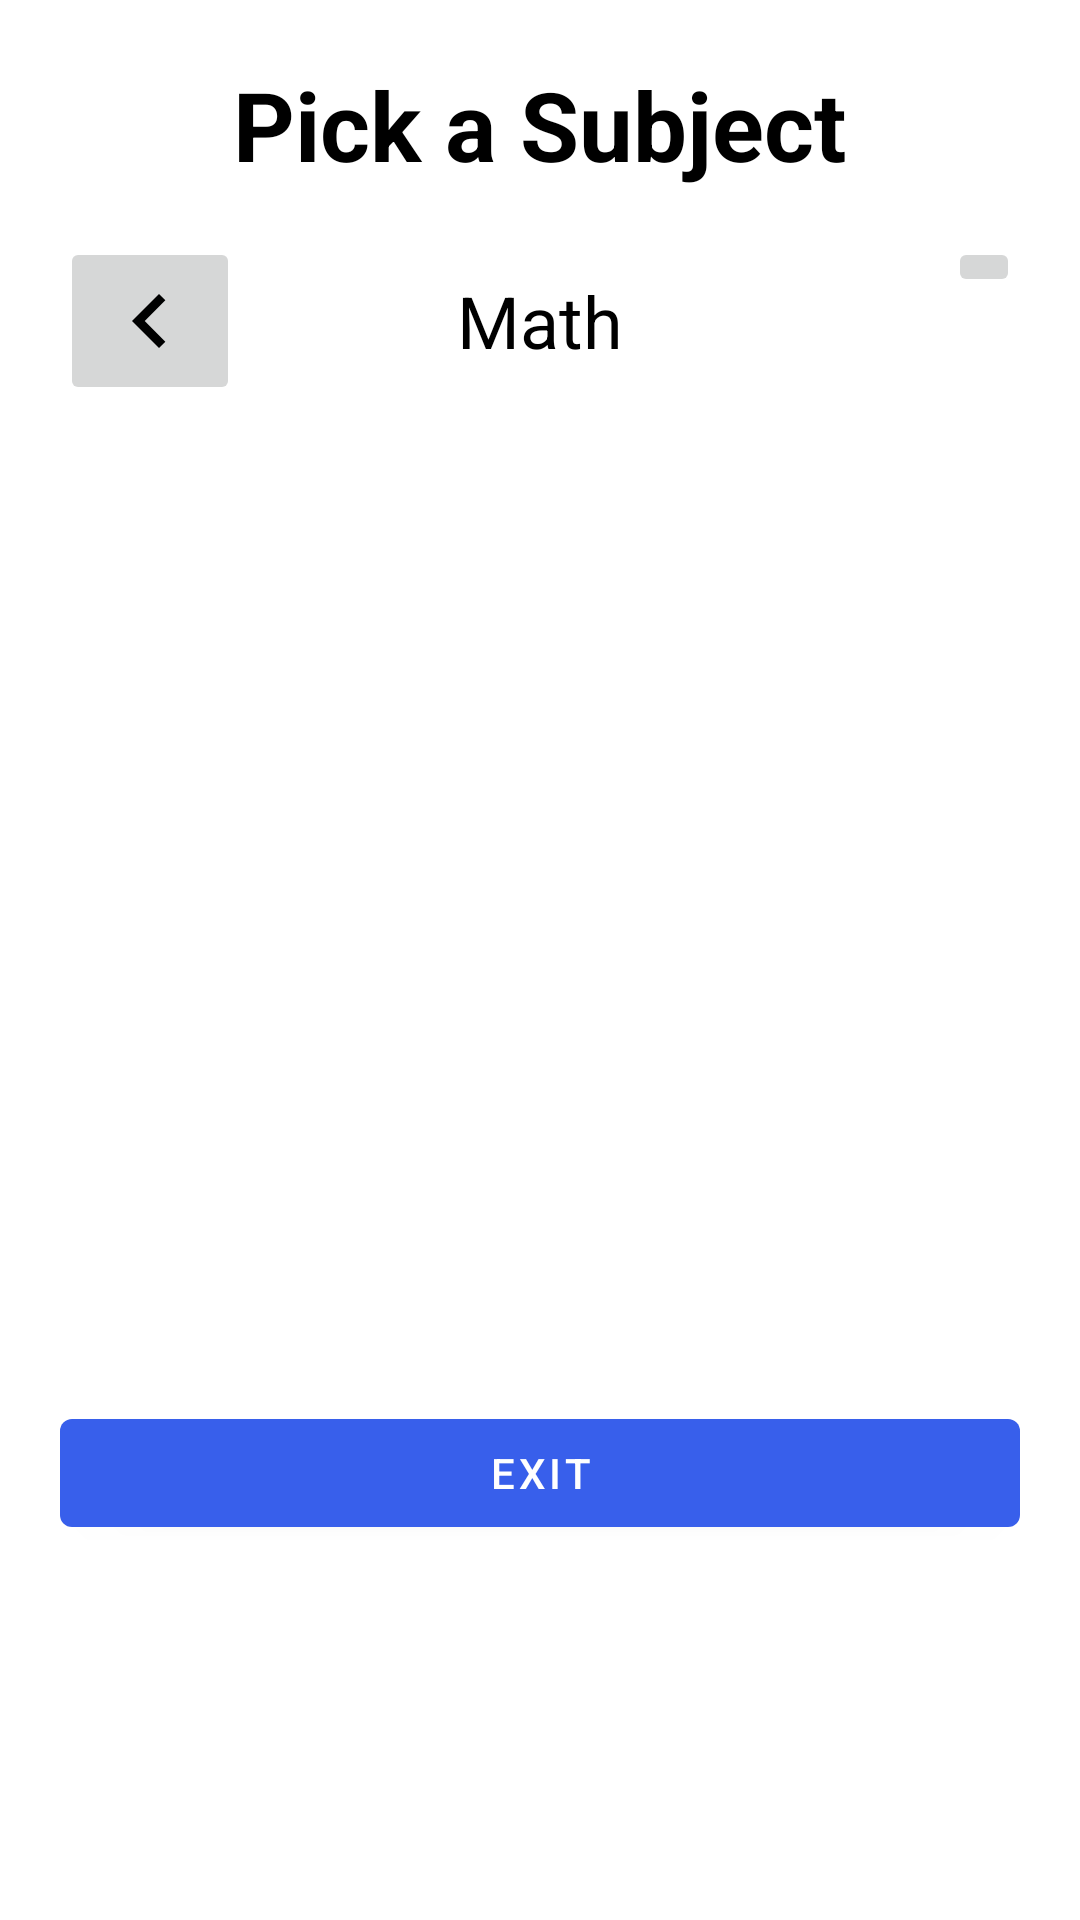

Icon bounding boxes for this 1080px x 1920px phone screenshot, format bbox=(x1, y1, x2, y2):
chevron left: bbox=(72, 255, 228, 387)
